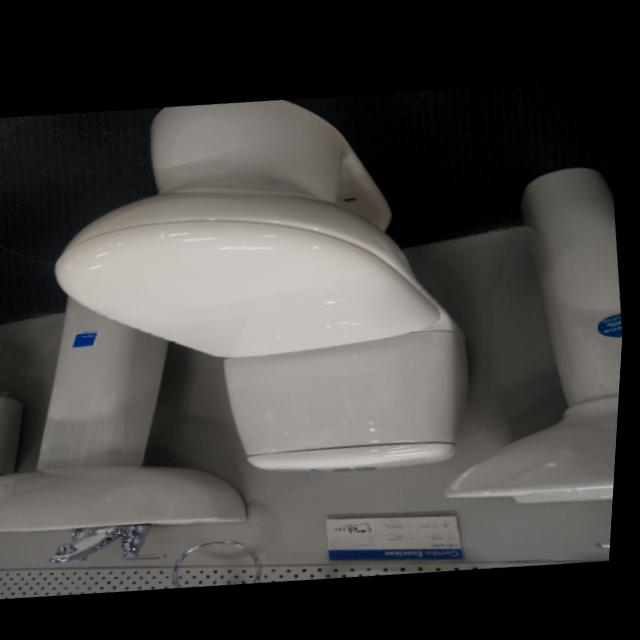toilet: (29, 64, 499, 507)
